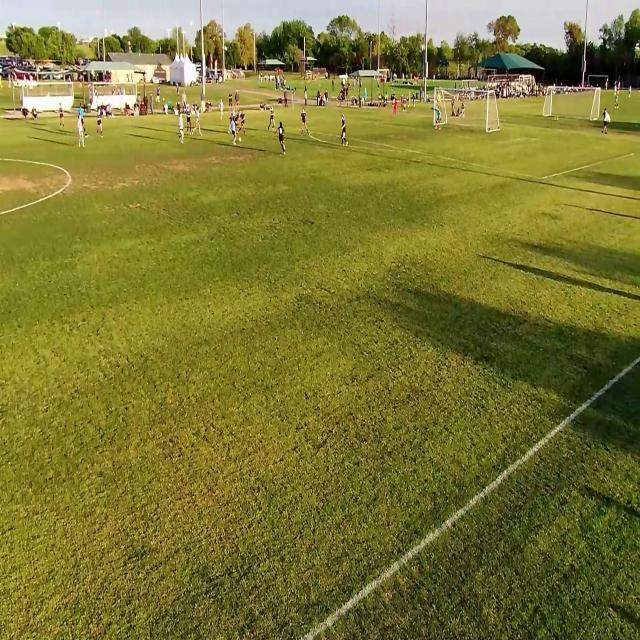ball: (238, 136, 243, 142)
team1: (278, 120, 286, 154), (340, 114, 348, 144), (301, 107, 308, 136), (268, 107, 276, 132), (240, 110, 248, 134), (59, 102, 66, 128), (97, 110, 103, 138), (186, 108, 192, 136), (236, 109, 241, 121)
team2: (192, 106, 205, 137), (177, 109, 184, 145), (78, 114, 84, 147), (218, 98, 226, 122), (232, 115, 238, 145), (230, 106, 236, 115)
